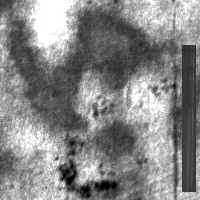inclusion: (55, 148, 116, 195)
patches: (6, 6, 163, 131), (91, 120, 142, 199)
scratches: (182, 45, 196, 192)
